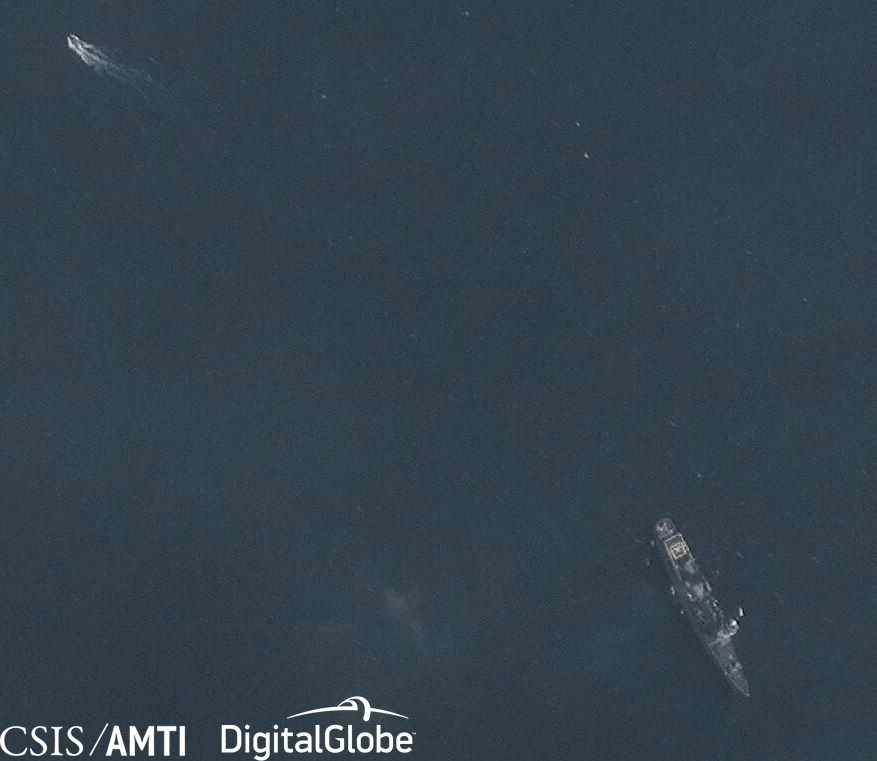ship: (634, 521, 782, 732)
